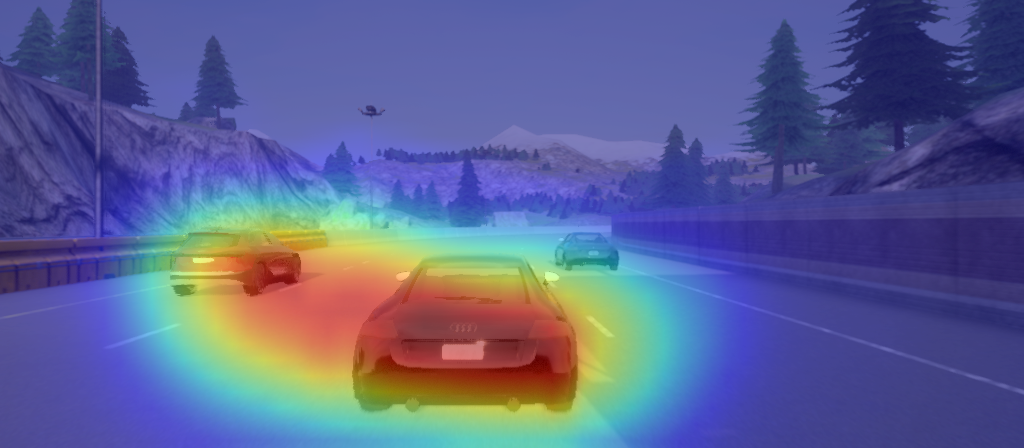Barrier: (656, 203, 1010, 264), (9, 236, 167, 280), (423, 226, 523, 237)
Car: (348, 248, 582, 422), (164, 224, 305, 303), (550, 229, 626, 275)
Lane Marker: (101, 317, 191, 352), (581, 311, 621, 345), (341, 252, 373, 275)
Light Pole: (87, 2, 111, 238), (353, 100, 389, 232)
